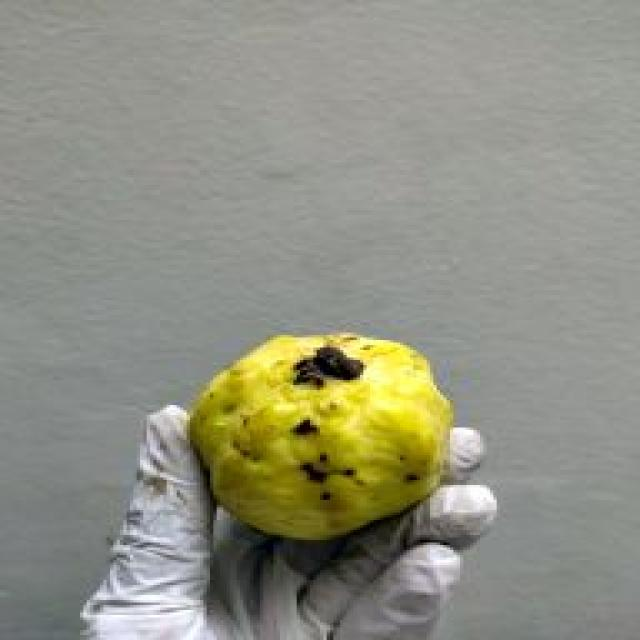Bad_Guava: (190, 334, 452, 539)
